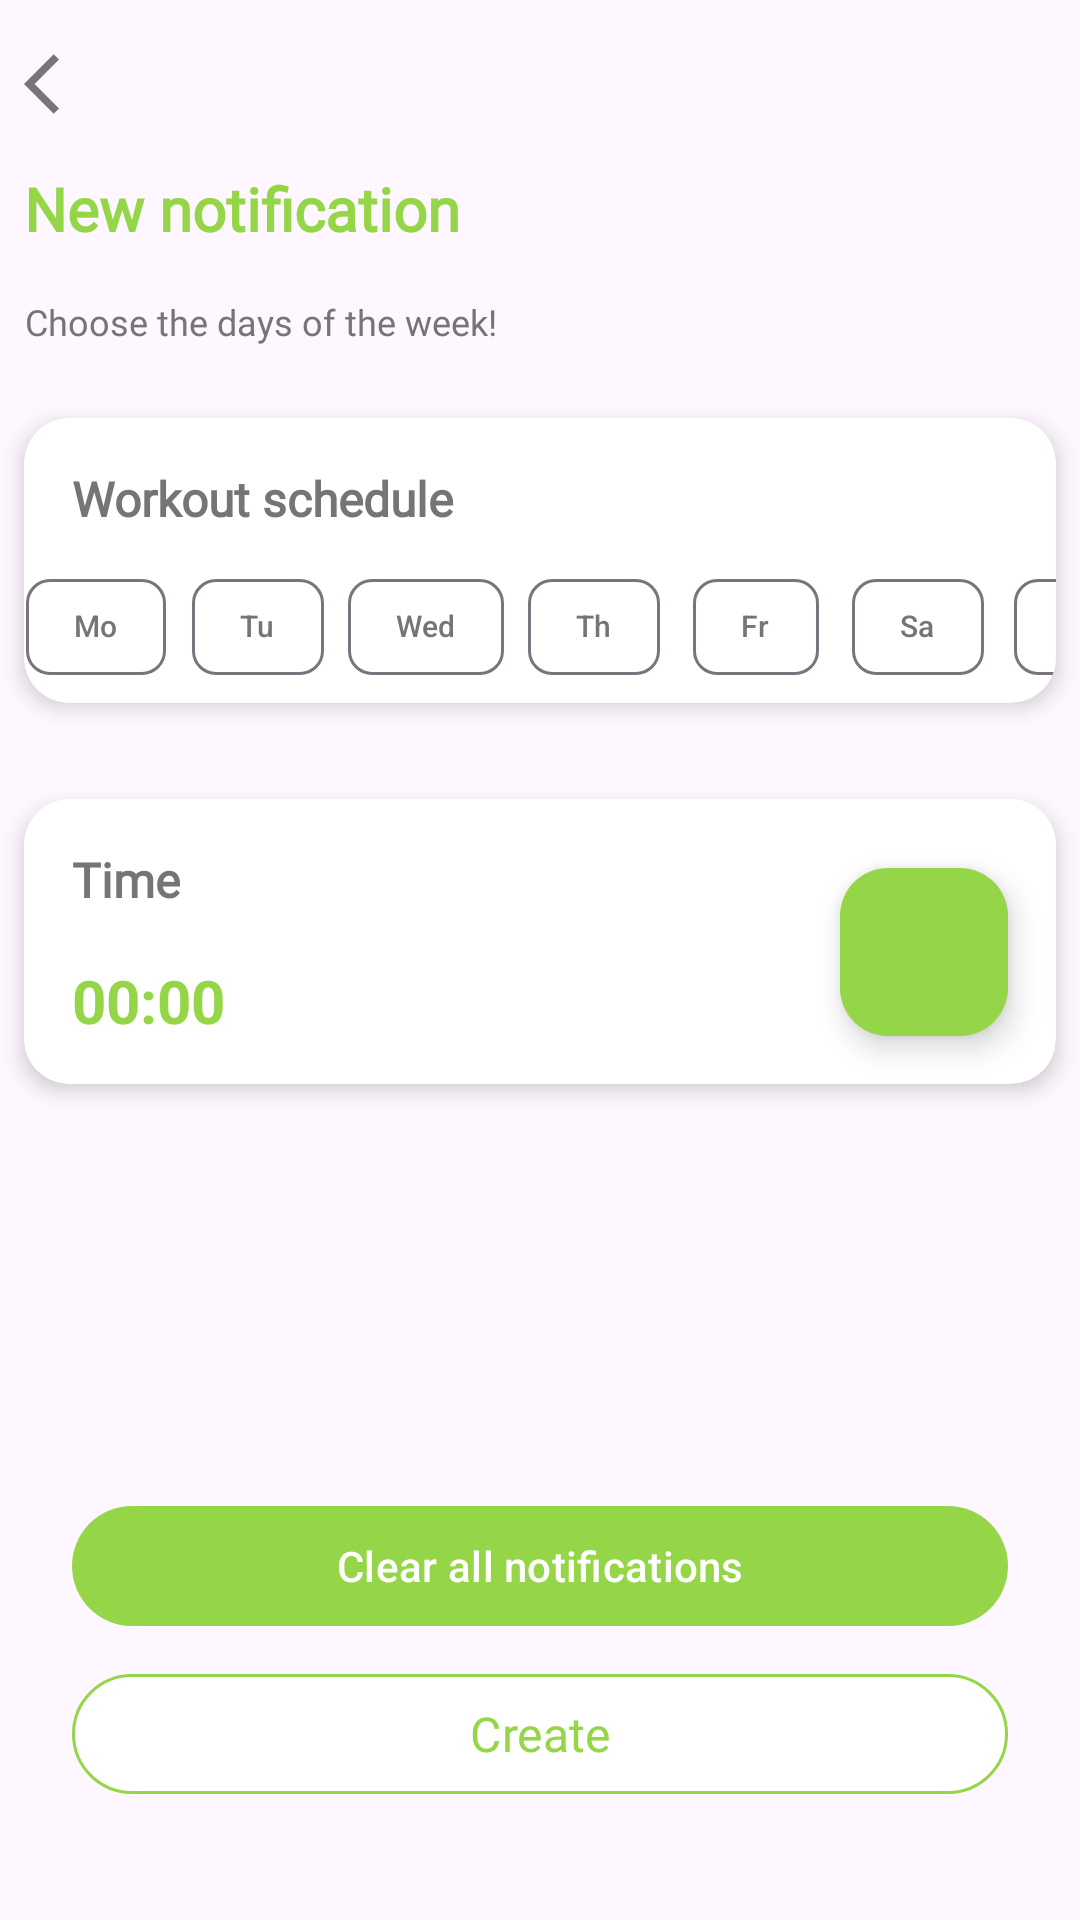

Icon click points for this 1080px×1920px phone screenshot, format (x=x, y=y):
arrow back: (x=41, y=84)
